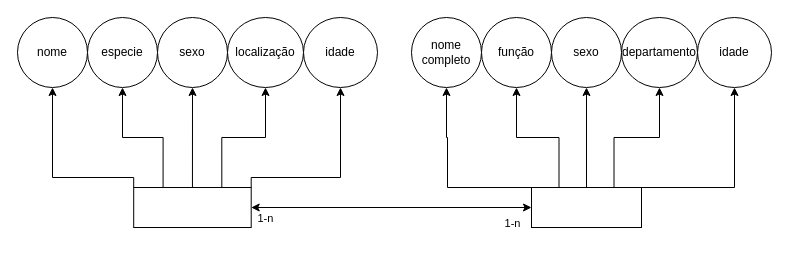
The diagram is 789 pixels wide and 255 high, and some of its shapes have lost their labels. The centre of each missing label's shape, as x and y in pixels:
"animal" belongs at point 192,207.
"cuidadores" belongs at point 586,207.
